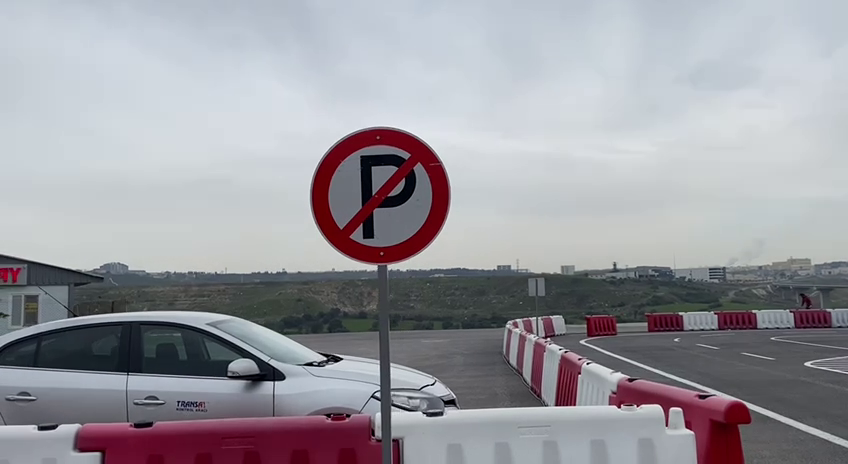noparking: (304, 121, 457, 270)
